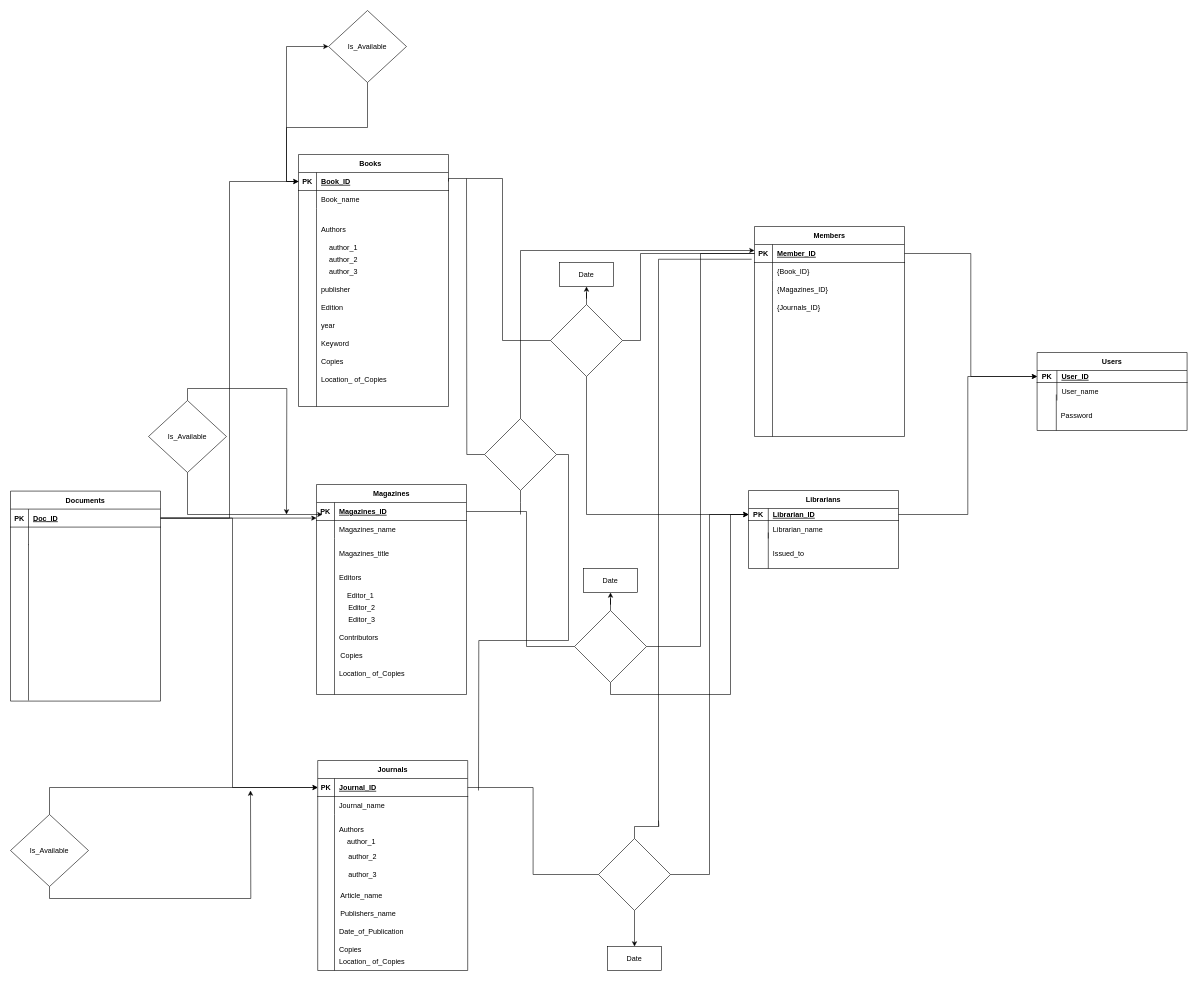
This 1198x982 diagram has some shape labels left out. The centre of each missing label's shape, as x and y in pixels:
"Book_Lend" goes at point 586,340.
"Journal_Lend" goes at point 634,874.
"Magazines_Lend" goes at point 610,646.
"Saved_Searches" goes at point 520,454.
